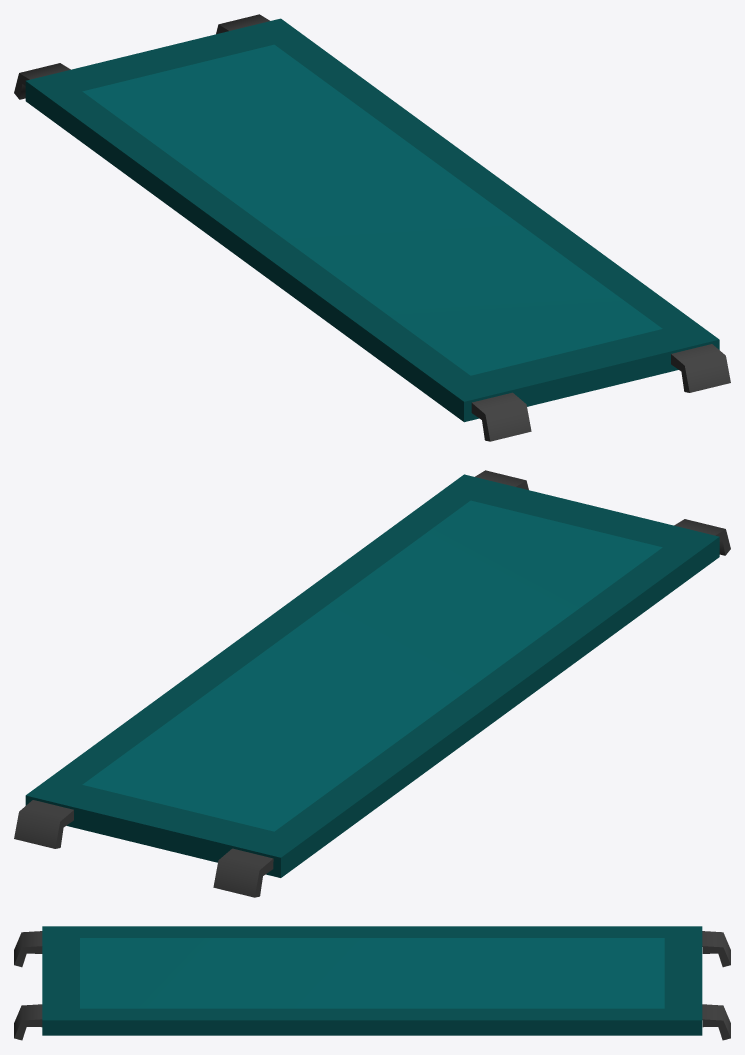
Rendered from Scaffolding_Plank_E.fbx.
3 renders of one model, top to bottom at view 1: azimuth 30°, elevation 25°; view 2: azimuth 150°, elevation 25°; view 3: azimuth 270°, elevation 25°, orthographic. The views are drawn at different scales.
Parts seen in each view (by area): view 1: Scaffolding_Plank_E; view 2: Scaffolding_Plank_E; view 3: Scaffolding_Plank_E.
Part boxes in pixels (x1,y1,x2,y2): Scaffolding_Plank_E: (14, 14, 730, 441); Scaffolding_Plank_E: (14, 470, 730, 897); Scaffolding_Plank_E: (14, 926, 730, 1040).
Size of the model in its own units: 65.43 by 7.53 by 211.
